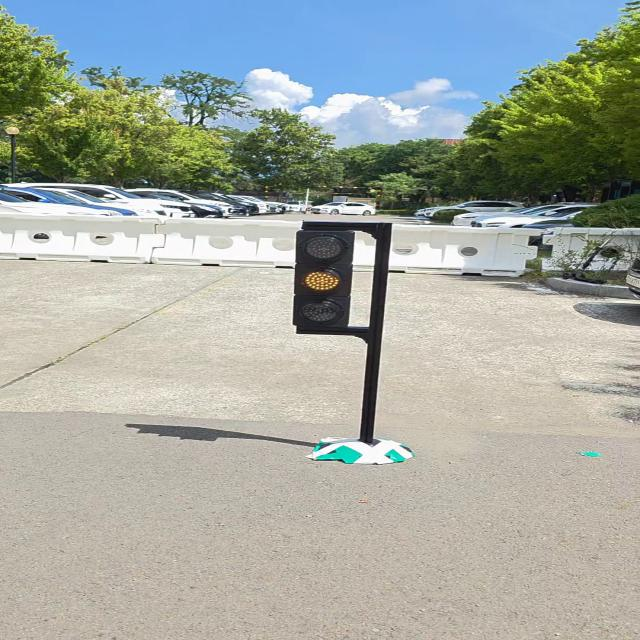yellow: (294, 231, 352, 327)
